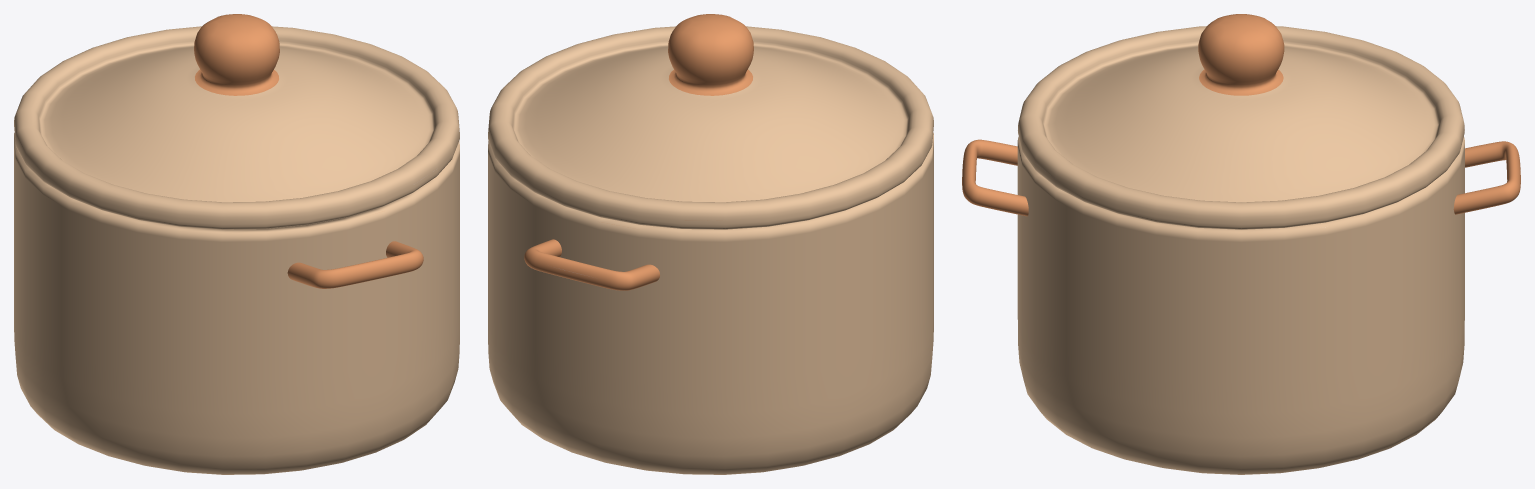
The model's file is Pot.fbx.
3 views of the same model, side by side, from view 1: azimuth 30°, elevation 25°; view 2: azimuth 150°, elevation 25°; view 3: azimuth 270°, elevation 25° (orthographic).
Visible parts, largest first — view 1: SM_PotBody, SM_PotCover; view 2: SM_PotBody, SM_PotCover; view 3: SM_PotBody, SM_PotCover.
Part boxes in pixels (box(x1,y1,x2,y2)): SM_PotBody: box(14, 133, 459, 474); SM_PotCover: box(14, 14, 459, 229); SM_PotBody: box(488, 133, 933, 474); SM_PotCover: box(488, 14, 933, 229); SM_PotBody: box(962, 137, 1520, 474); SM_PotCover: box(1018, 14, 1464, 229).
Bounding box in the file's own units: 79.23 × 73.07 × 99.03.
